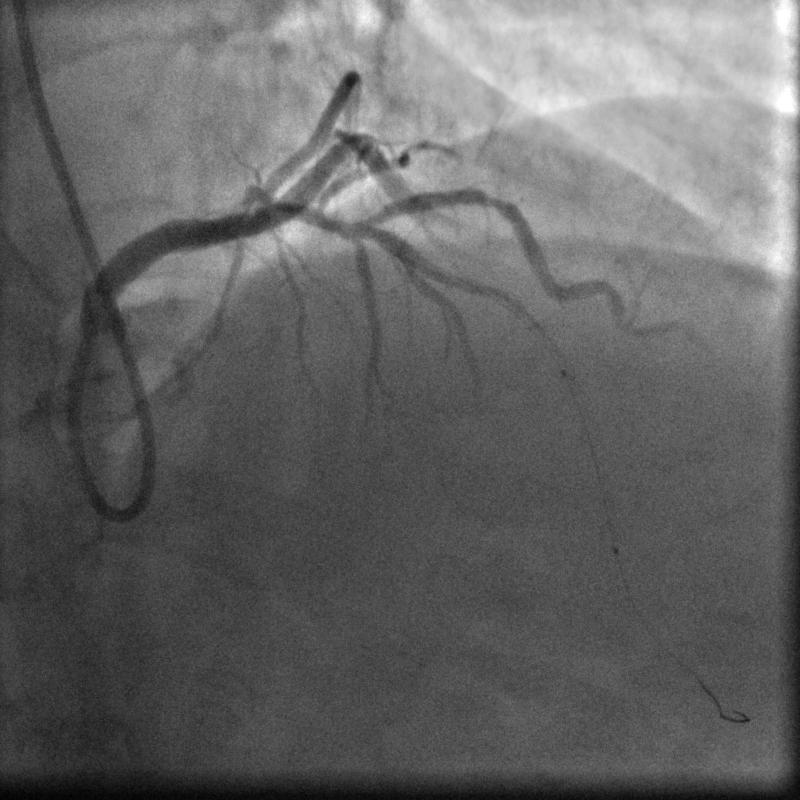Stenosis: (477, 181, 511, 225)
